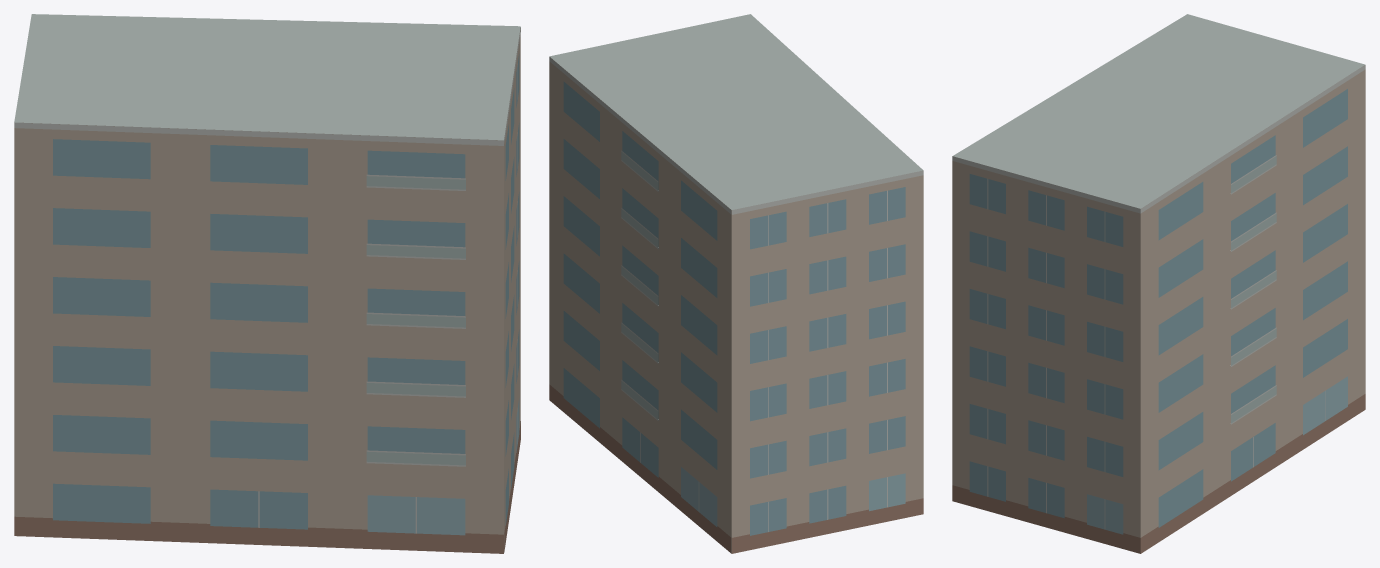
File: survey-upis-32741735.glb
The picture shows the model from 3 angles, left to right: view 1: azimuth 30°, elevation 25°; view 2: azimuth 150°, elevation 25°; view 3: azimuth 270°, elevation 25°; orthographic projection. The views are drawn at different scales.
Parts seen in each view (by area): view 1: survey-upis-32741735.tmp; view 2: survey-upis-32741735.tmp; view 3: survey-upis-32741735.tmp.
Part boxes in pixels (x1,y1,x2,y2): survey-upis-32741735.tmp: [14, 14, 520, 553]; survey-upis-32741735.tmp: [549, 14, 923, 553]; survey-upis-32741735.tmp: [952, 14, 1365, 553].
Size of the model in its own units: 21.57 by 17.8 by 19.32.
